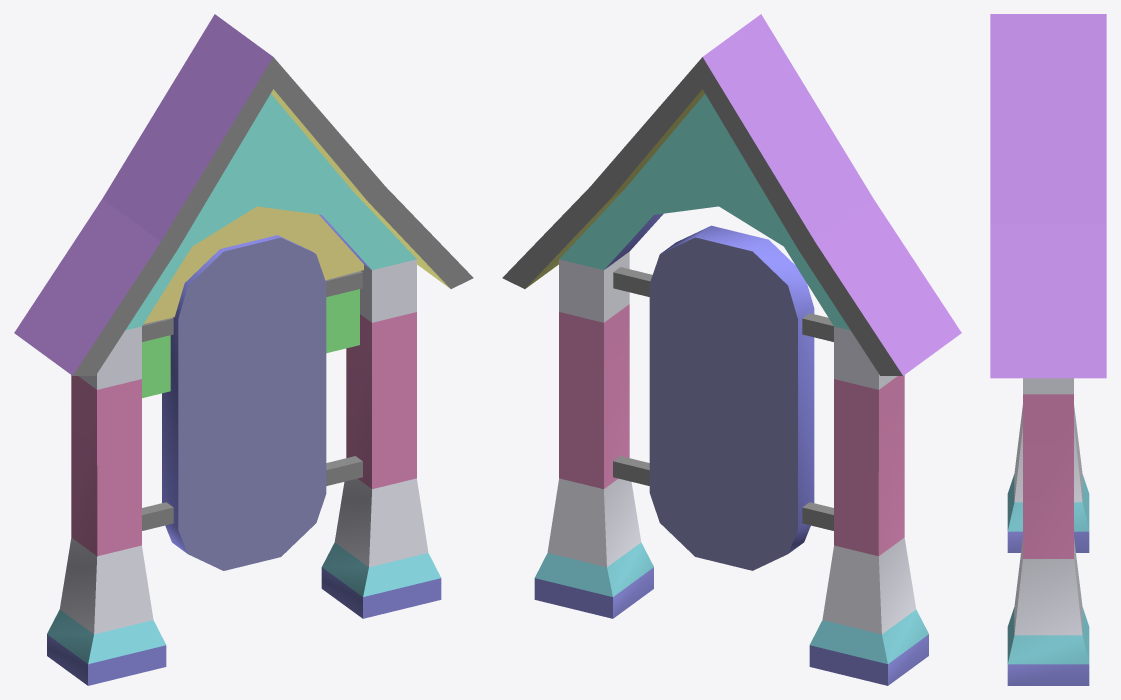
File: O_E_Board.gltf
3 renders of one model, left to right at view 1: azimuth 30°, elevation 25°; view 2: azimuth 150°, elevation 25°; view 3: azimuth 270°, elevation 25°, orthographic.
Parts seen in each view (by area): view 1: O_E_Board; view 2: O_E_Board; view 3: O_E_Board.
Boxes of the visible parts, <box> form: O_E_Board: <box>14,14,473,685</box>; O_E_Board: <box>502,14,961,685</box>; O_E_Board: <box>990,14,1106,685</box>.
Bounding box in the file's own units: 0.7893 × 1.11 × 0.1999.
